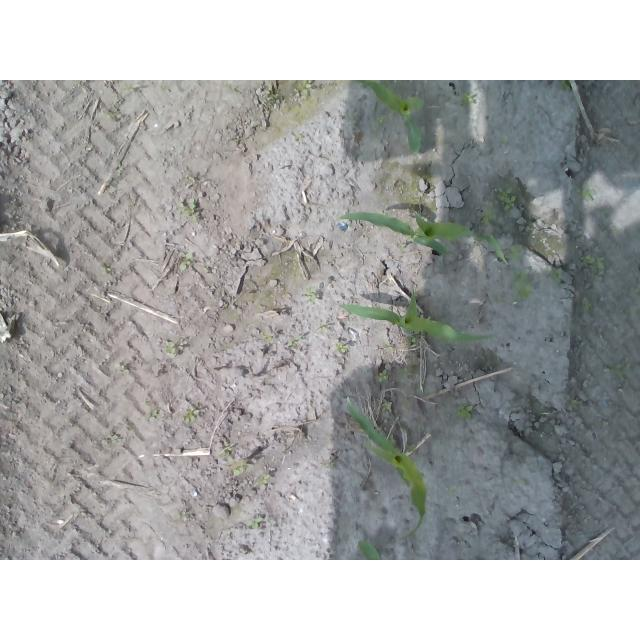Maize: (342, 398, 430, 543), (339, 210, 510, 267), (337, 288, 497, 345), (360, 80, 429, 158)
Weeds: (512, 272, 532, 301), (495, 185, 517, 209), (579, 254, 605, 270), (399, 366, 418, 386), (480, 208, 501, 225), (178, 200, 197, 217), (179, 250, 194, 270), (295, 80, 313, 96), (233, 463, 255, 475), (455, 404, 475, 416), (306, 287, 318, 305), (184, 409, 197, 423), (579, 188, 593, 201), (376, 368, 388, 382), (257, 474, 272, 484), (164, 342, 176, 354), (508, 247, 521, 258), (250, 518, 262, 529), (568, 399, 580, 410), (336, 343, 349, 353), (462, 93, 475, 103), (376, 116, 389, 126), (550, 269, 561, 279), (110, 434, 121, 444), (223, 448, 232, 457), (382, 404, 390, 413), (398, 243, 407, 251), (152, 410, 160, 417)
